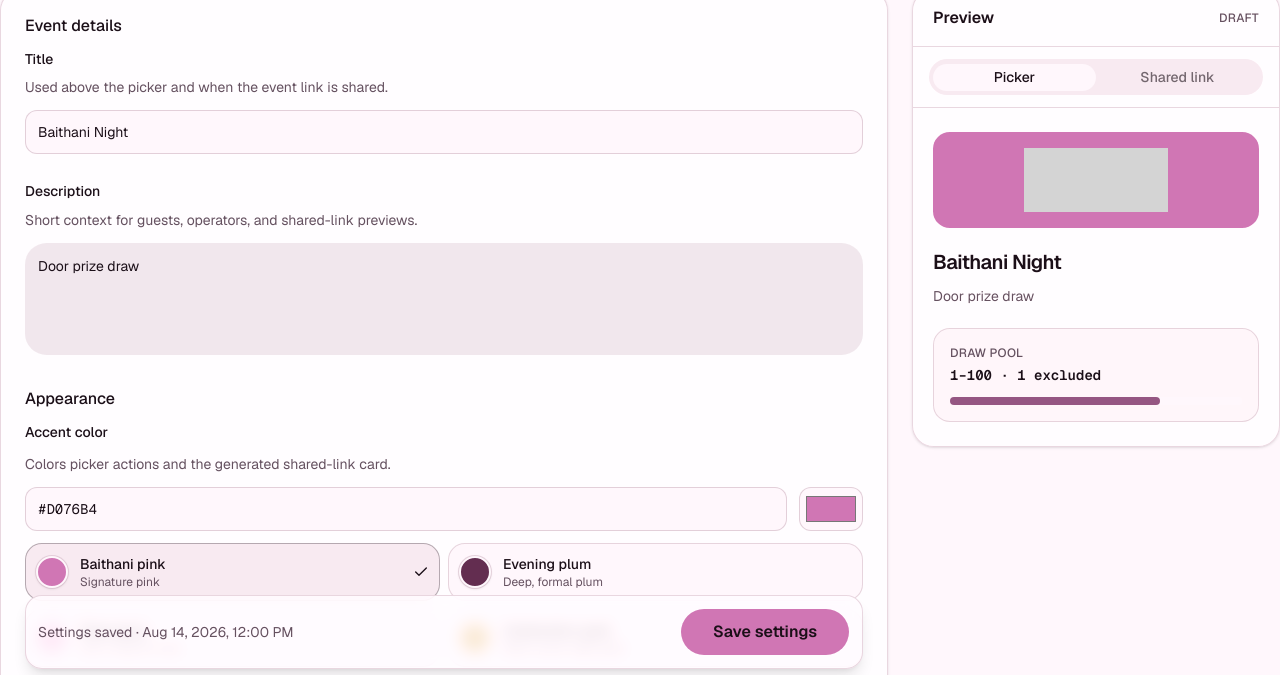
Scenario: SettingsForm previews and status › updates picker and shared-link previews from one content source
Replace the text in the field labelled "Title" with "Friday draw" at point(444, 132), box [25,110,863,154]
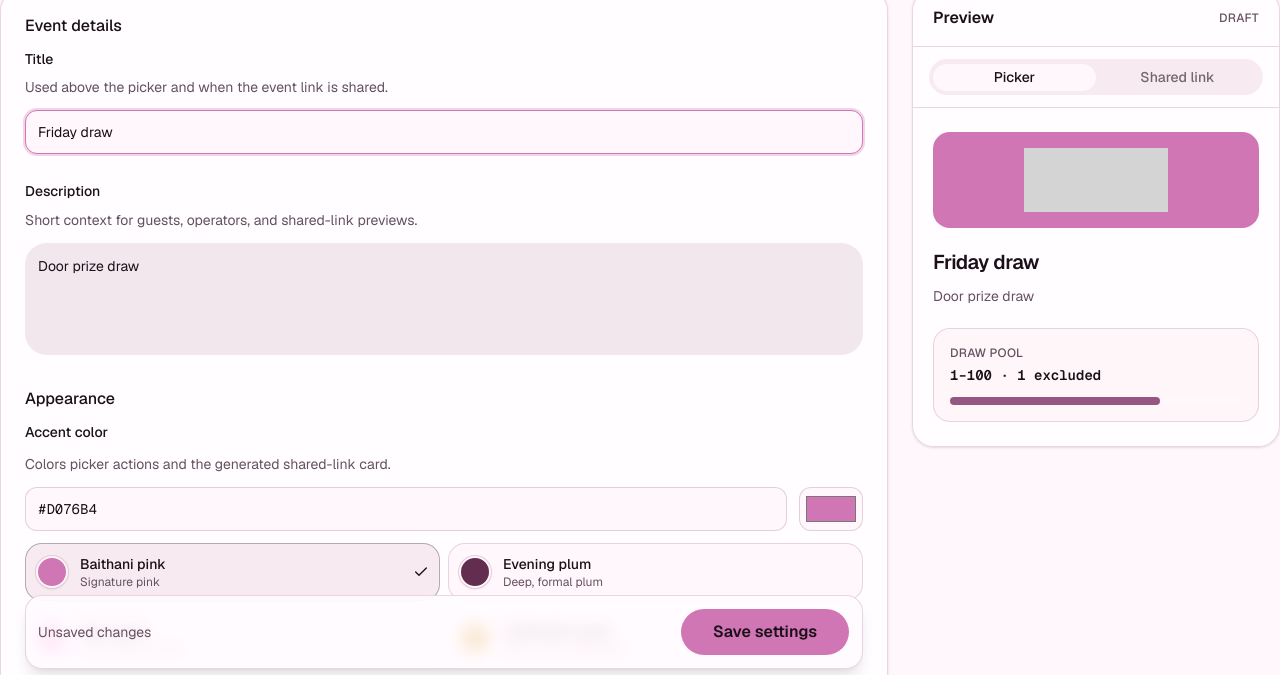
Replace the text in the text box labelled "Description" with "Doors at six" at point(444, 298), box [25,242,863,354]
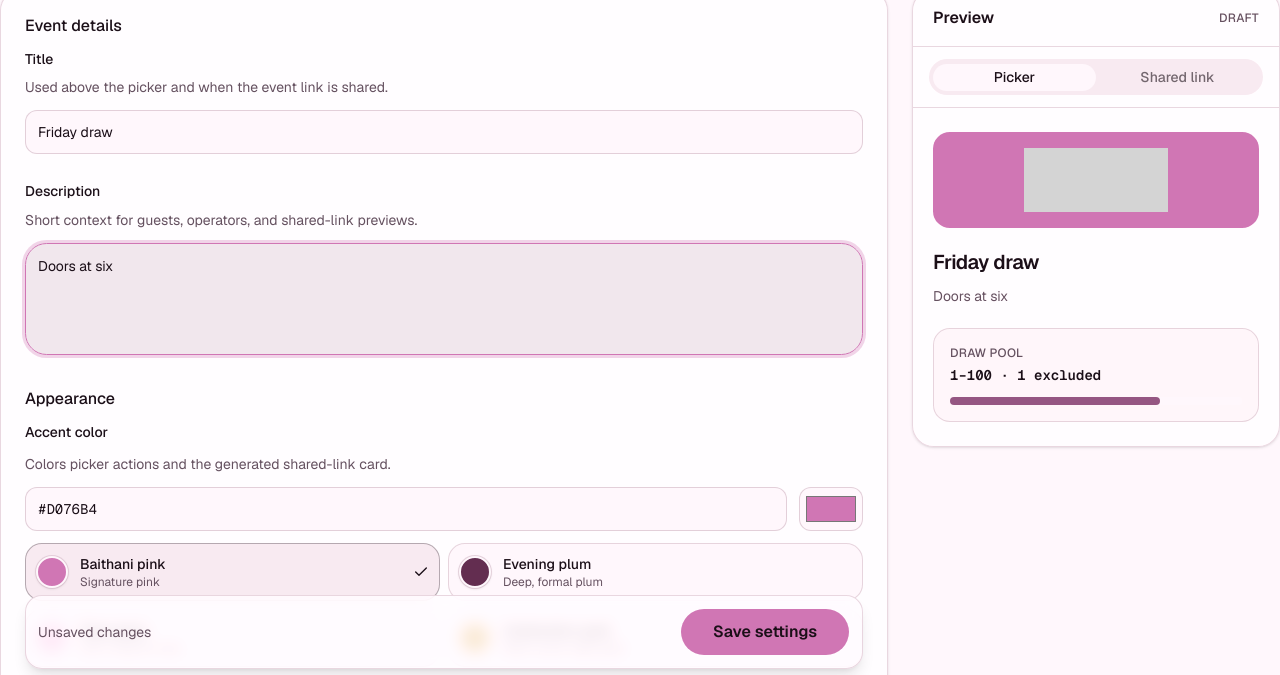
Expected: the text "1–100 · 1 excluded" is shown, [950,366,1101,384]
Expected: the heading "Friday draw" is shown, [933,249,1039,275]
Expected: the text "Doors at six" is shown, [933,287,1008,305]
Click the tab "Shared link".
click(1178, 77)  # box [1096,64,1259,90]
(page scrolled)
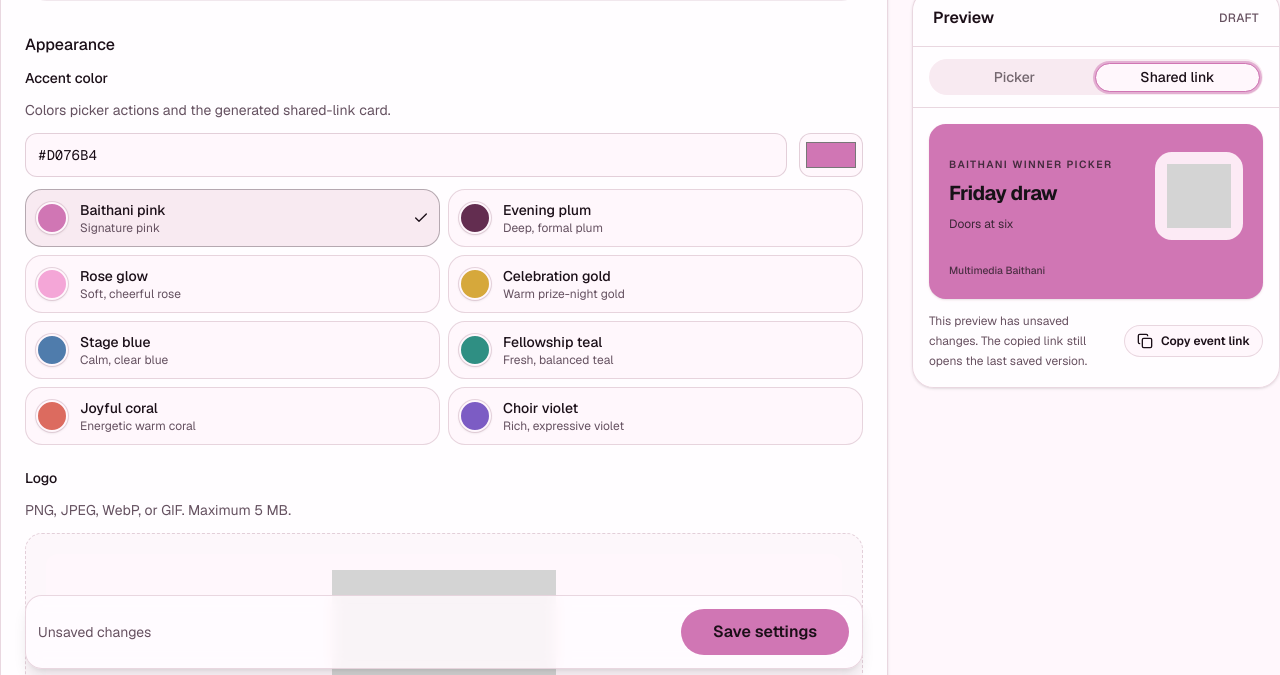
Expected: the text "Multimedia Baithani" is shown, [949,264,1045,278]
Expected: the text "This preview has unsaved changes. The copied link still opens the last saved version." is shown, [929,313,1087,369]
